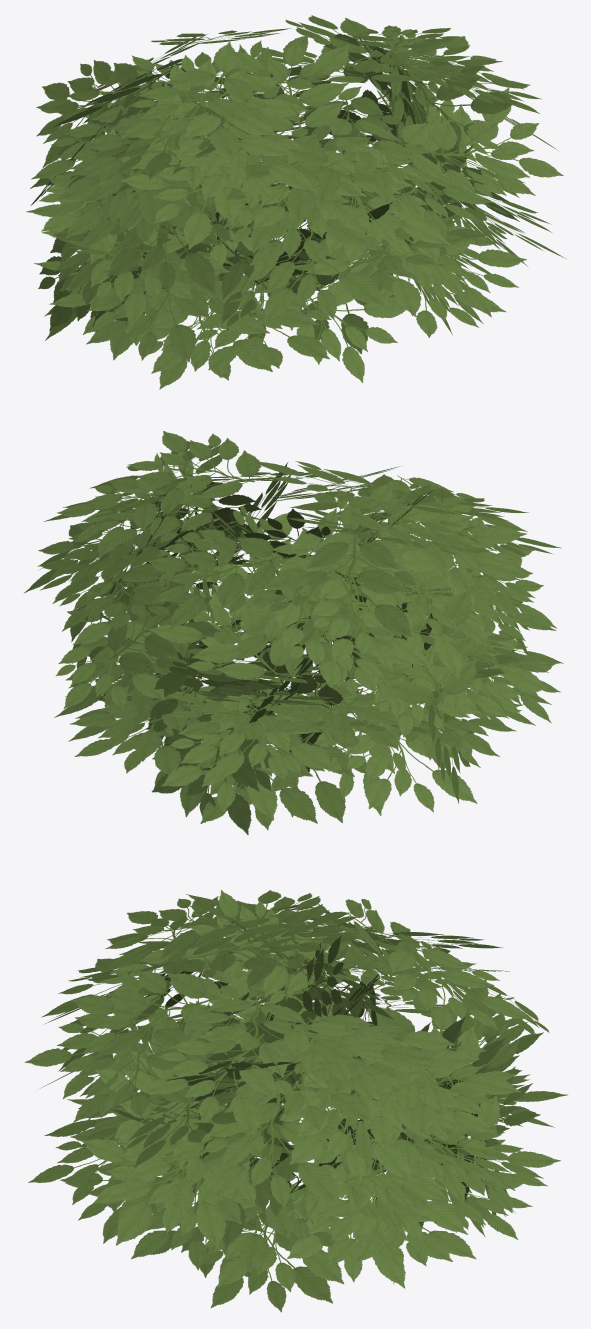
The model's file is bush_leafy.glb.
3 views of the same model, one above another, from view 1: azimuth 30°, elevation 25°; view 2: azimuth 150°, elevation 25°; view 3: azimuth 270°, elevation 25° (orthographic). The views are drawn at different scales.
Parts seen in each view (by area): view 1: leaves_w; view 2: leaves_w; view 3: leaves_w.
Boxes of the visible parts, box(x1,y1,x2,y2) form: leaves_w: box(26, 15, 565, 389); leaves_w: box(24, 431, 563, 835); leaves_w: box(24, 890, 567, 1312).
Size of the model in its own units: 2.64 by 1.5 by 2.46.
1 material, 1 textured.
